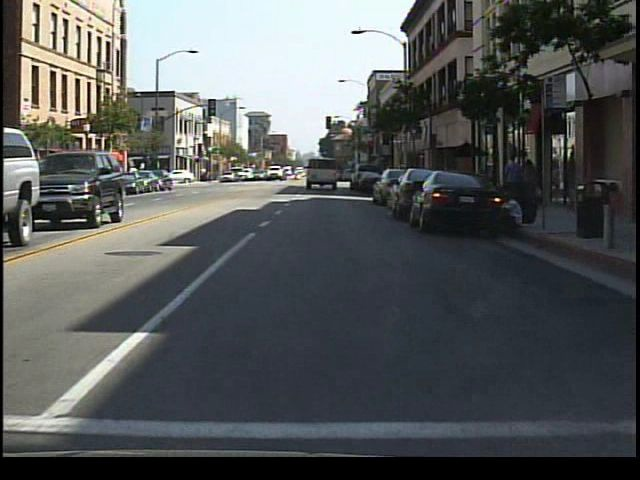person: (498, 146, 524, 213), (518, 155, 542, 211)
